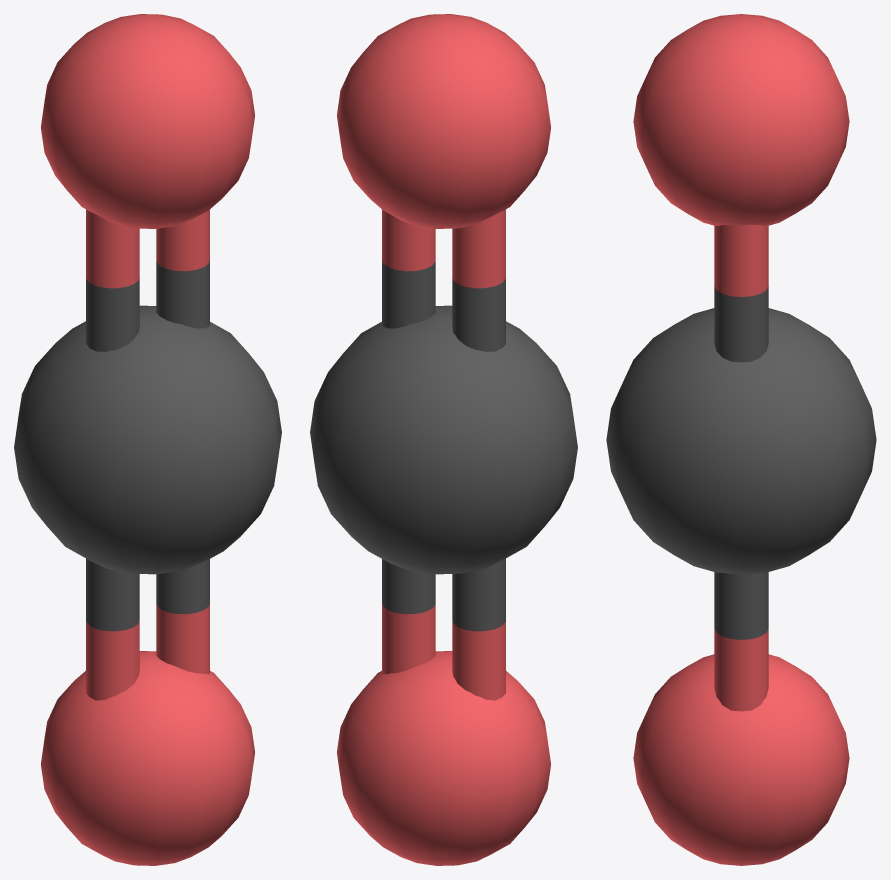
File: 03_Dioxido-de-Carbono.fbx
3 views of the same model, side by side, from view 1: azimuth 30°, elevation 25°; view 2: azimuth 150°, elevation 25°; view 3: azimuth 270°, elevation 25° (orthographic).
Parts seen in each view (by area): view 1: m_dioxidodeC; view 2: m_dioxidodeC; view 3: m_dioxidodeC.
Boxes of the visible parts, x1,y1,x2,y2 form: m_dioxidodeC: (14,14,281,865); m_dioxidodeC: (310,14,577,865); m_dioxidodeC: (606,14,876,865).
Bounding box in the file's own units: 200 × 680 × 200.
